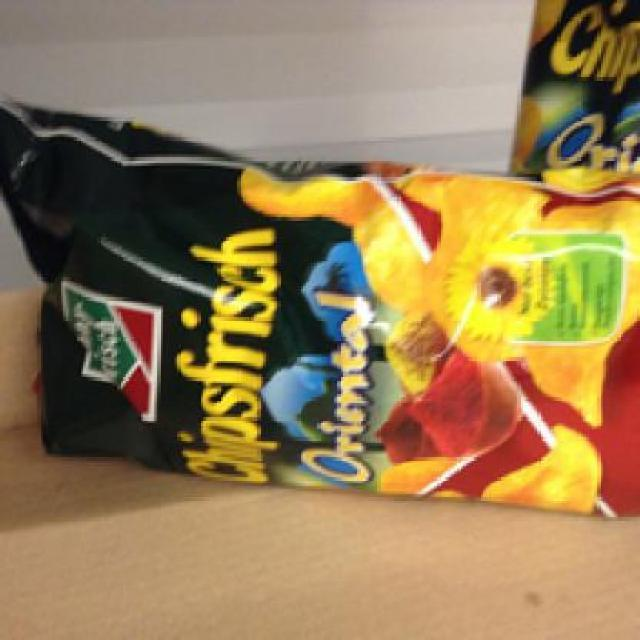Chips: (1, 100, 637, 514)
